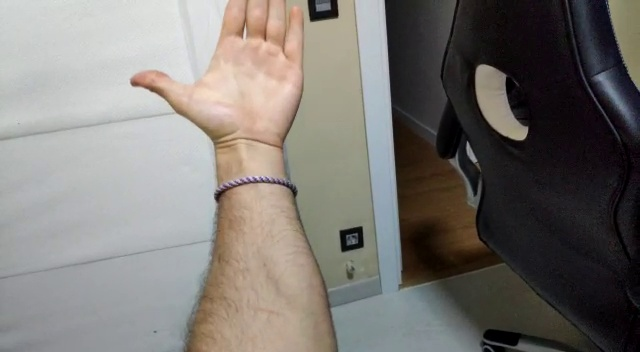Palm: (124, 1, 308, 152)
